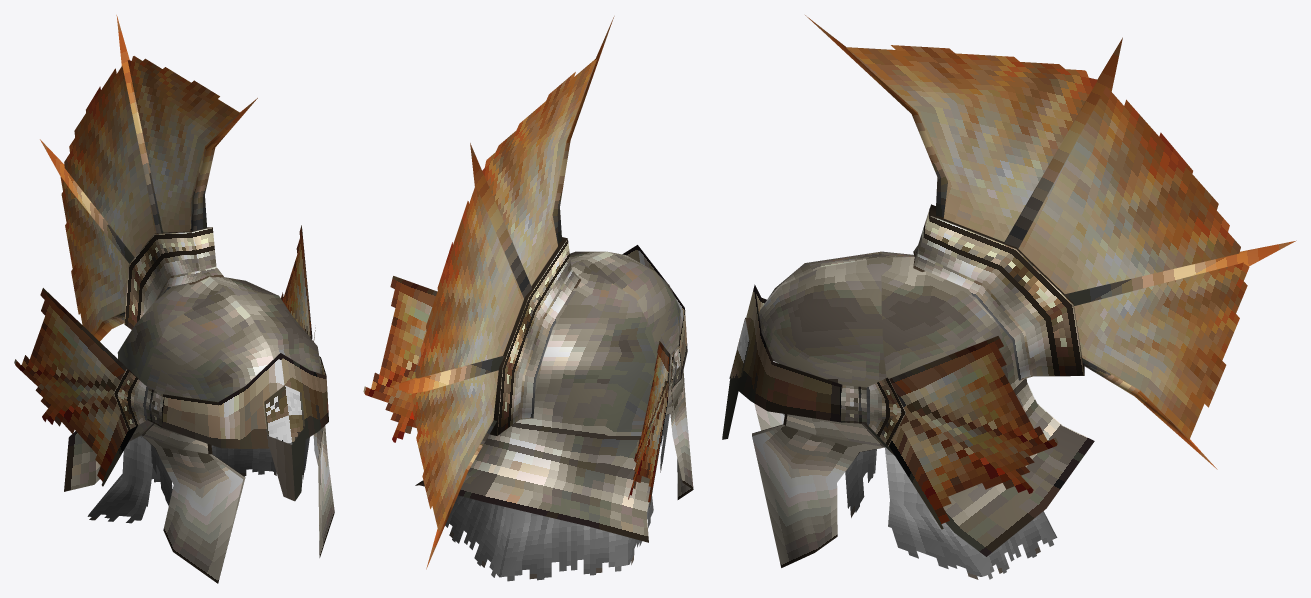
File: m_helmet111.obj
The picture shows the model from 3 angles, left to right: view 1: azimuth 30°, elevation 25°; view 2: azimuth 150°, elevation 25°; view 3: azimuth 270°, elevation 25°; orthographic projection. The views are drawn at different scales.
Parts seen in each view (by area): view 1: mesh02, mesh00, mesh01; view 2: mesh02, mesh00; view 3: mesh02, mesh00.
Part boxes in pixels (x1,y1,x2,y2): mesh02: (14,15,334,583); mesh00: (87,432,317,523); mesh01: (264,385,304,444); mesh02: (363,16,693,569); mesh00: (445,341,679,581); mesh02: (722,15,1296,567); mesh00: (783,413,1057,579).
Size of the model in its own units: 26.57 by 45.35 by 44.59.
Materials: 3 (3 with a texture image).
